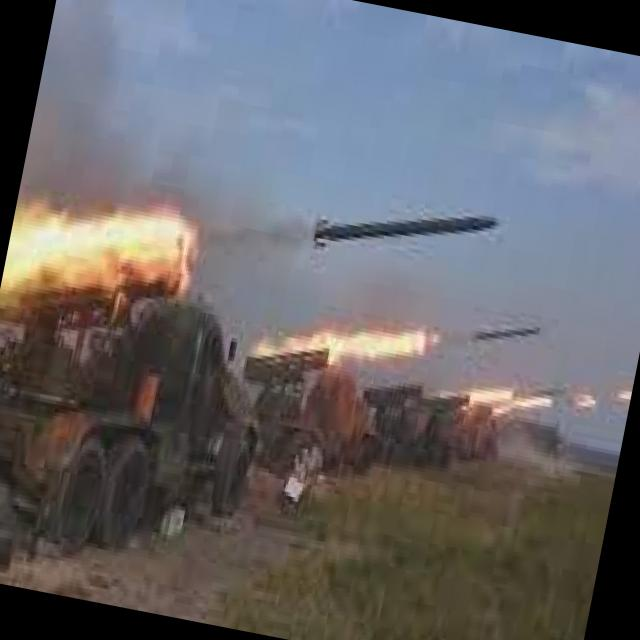rocket: (88, 132, 565, 376)
